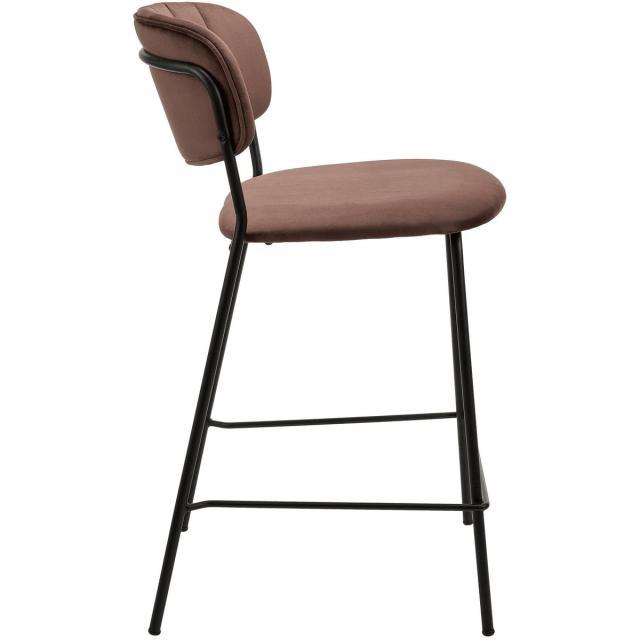chair: (130, 0, 510, 640), (134, 8, 513, 232)
